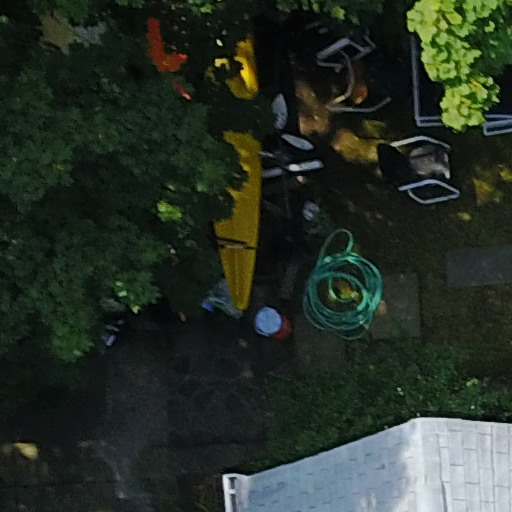clutter: (131, 1, 441, 355)
kayak: (185, 9, 264, 323)
toy: (187, 11, 266, 325)
